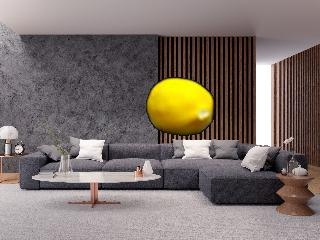lemon: (147, 78, 213, 134)
